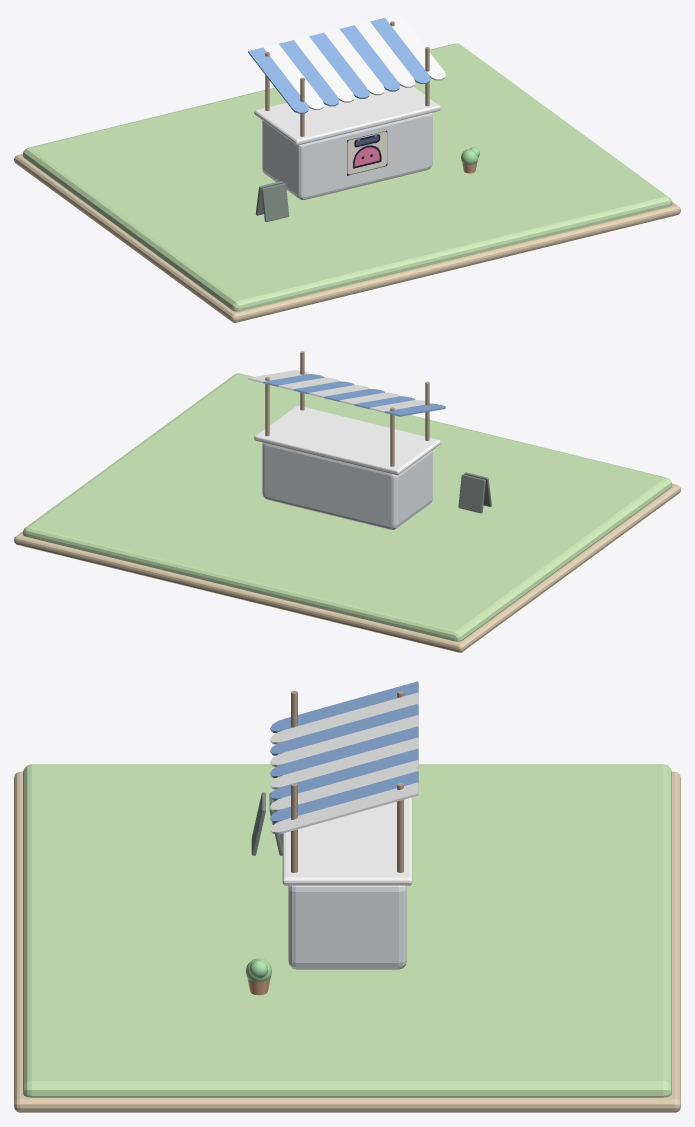
File: building_testlab_L02.glb
The picture shows the model from 3 angles, top to bottom: view 1: azimuth 30°, elevation 25°; view 2: azimuth 150°, elevation 25°; view 3: azimuth 270°, elevation 25°; orthographic projection. The views are drawn at different scales.
Visible parts, largest first — view 1: testlab_L2, object 1; view 2: testlab_L2; view 3: testlab_L2.
Boxes of the visible parts, x1,y1,x2,y2 form: testlab_L2: (14, 14, 680, 322); object 1: (347, 130, 387, 175); testlab_L2: (14, 351, 680, 652); testlab_L2: (14, 681, 680, 1112).
Size of the model in its own units: 26.61 by 7.91 by 22.6.
Materials: 10 (1 with a texture image).
